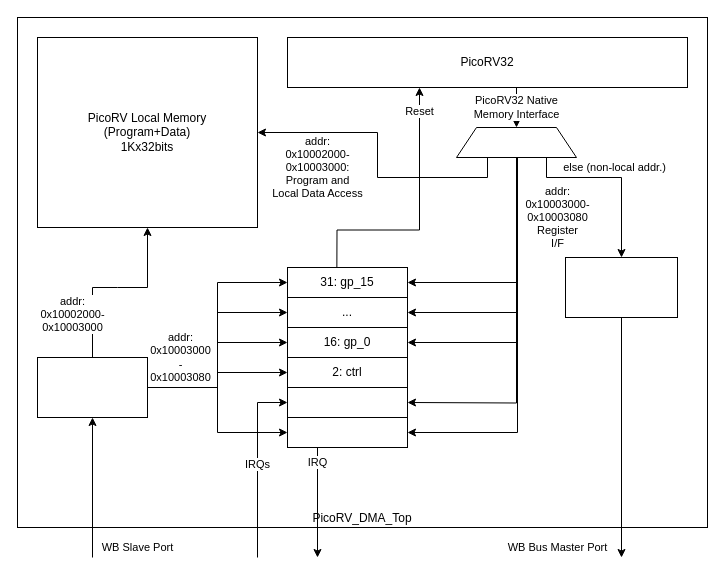
This 725x583 diagram has some shape labels left out. The centre of each missing label's shape, as x and y in pixels:
"0: irq_out_reg" belongs at [347,432].
"1: irq_in_reg" belongs at [347,402].
"Pico_Native_ to_WB_Master" belongs at [621,287].
"WB Slave" belongs at [92,387].
